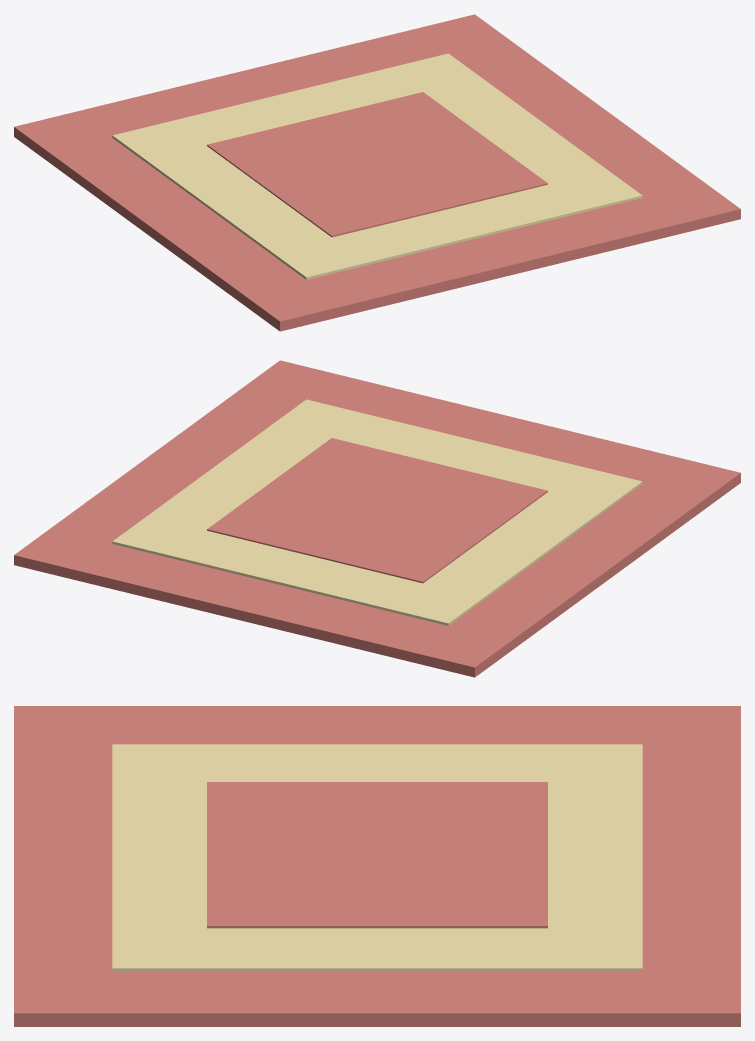
File: rug.glb
3 views of the same model, one above another, from view 1: azimuth 30°, elevation 25°; view 2: azimuth 150°, elevation 25°; view 3: azimuth 270°, elevation 25° (orthographic). The views are drawn at different scales.
Parts seen in each view (by area): view 1: rug; view 2: rug; view 3: rug.
Part boxes in pixels (left/top/right/bottom): rug: left=14, top=14, right=740, bottom=331; rug: left=14, top=360, right=740, bottom=677; rug: left=14, top=706, right=740, bottom=1026.
Bounding box in the file's own units: 0.96 × 0.028 × 0.96.
